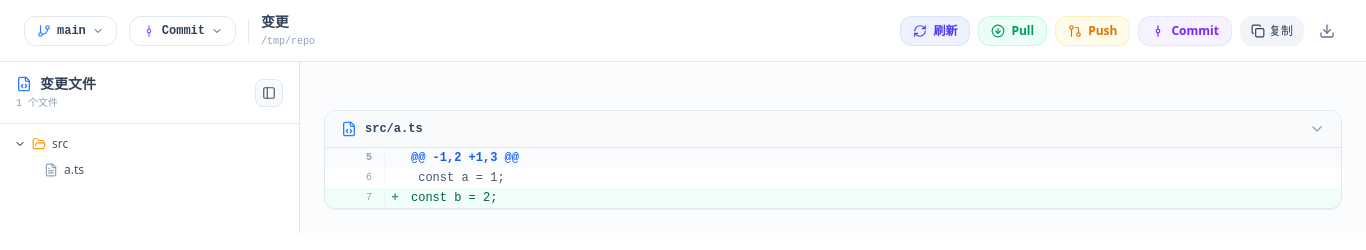
TabGitDiff 行为 › 折叠交互：点击文件名后隐藏该文件的 diff 明细
The width and height of the screenshot is (1366, 250).
Click the button "src/a.ts": (394, 129) [325,111,1341,148]
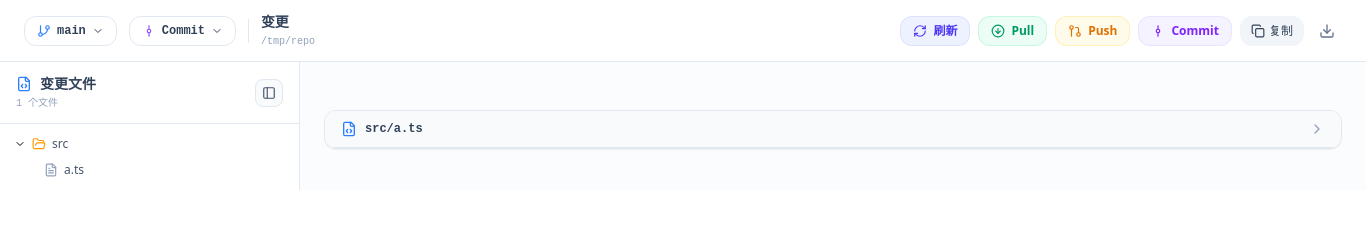
Check: the text "src/a.ts" is shown, box [365,121,423,137]
Check: the text "const b = 2;" is gone
